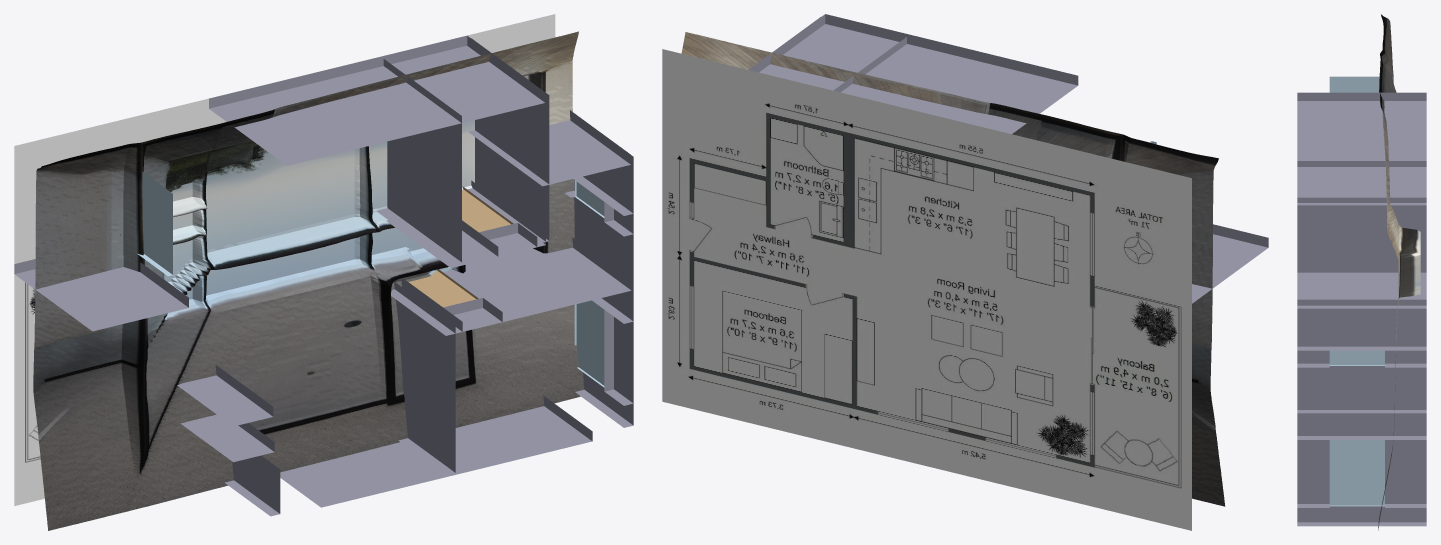
File: floorplan2_interior.gltf
The picture shows the model from 3 angles, left to right: view 1: azimuth 30°, elevation 25°; view 2: azimuth 150°, elevation 25°; view 3: azimuth 270°, elevation 25°; orthographic projection. The views are drawn at different scales.
Parts seen in each view (by area): view 1: InteriorMesh, CVBuilding, FloorPlan; view 2: FloorPlan, CVBuilding, InteriorMesh; view 3: CVBuilding, InteriorMesh.
Part boxes in pixels (x1,y1,x2,y2): InteriorMesh: (33,31,584,530); CVBuilding: (14,35,633,516); FloorPlan: (14,14,555,505); FloorPlan: (662,49,1191,530); CVBuilding: (748,14,1268,303); InteriorMesh: (681,32,1225,506); CVBuilding: (1297,76,1426,526); InteriorMesh: (1378,14,1420,530).
Size of the model in its own units: 11.19 by 7.12 by 2.8.
Materials: 3 (2 with a texture image).
